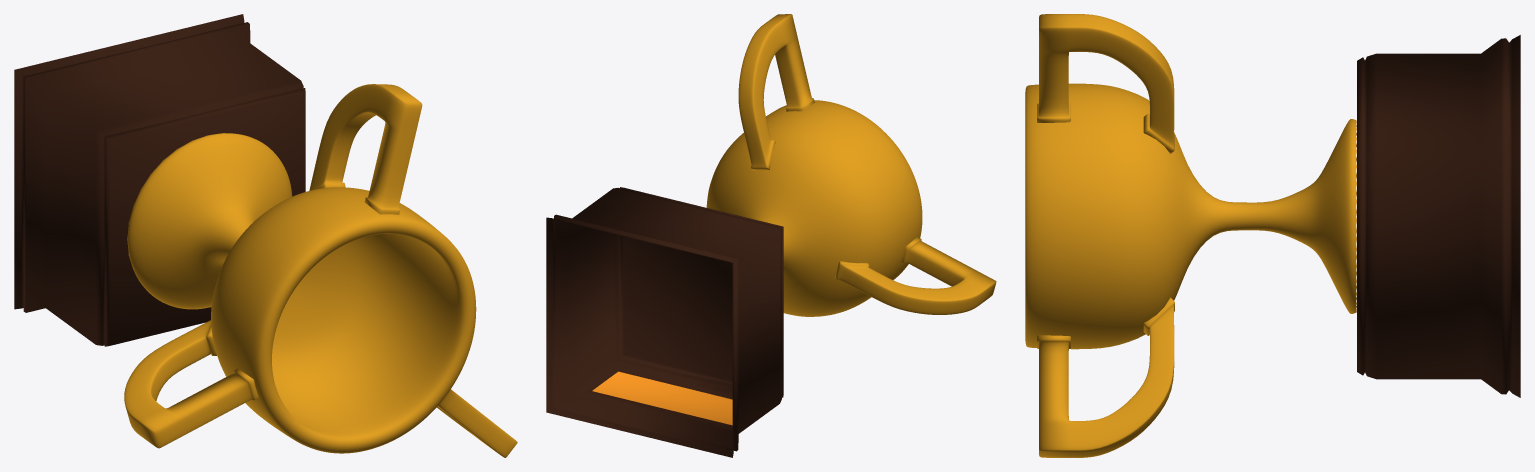
Rendered from Trophy Reward.fbx.
3 views of the same model, side by side, from view 1: azimuth 30°, elevation 25°; view 2: azimuth 150°, elevation 25°; view 3: azimuth 270°, elevation 25° (orthographic). The views are drawn at different scales.
Parts seen in each view (by area): view 1: trophy, Plane.001-0, handle; view 2: Plane.001-0, trophy, handle, Plane.001-1; view 3: Plane.001-0, trophy, handle.
Part boxes in pixels (x1,y1,x2,y2): trophy: (127,133,476,453); Plane.001-0: (14,14,305,346); handle: (124,84,517,457); Plane.001-0: (546,187,783,457); trophy: (706,100,922,316); handle: (738,14,996,314); Plane.001-1: (592,371,732,425); Plane.001-0: (1357,35,1520,397); trophy: (1025,83,1356,349); handle: (1037,14,1174,457).
Bounding box in the file's own units: 4.53 × 4.51 × 5.15.
